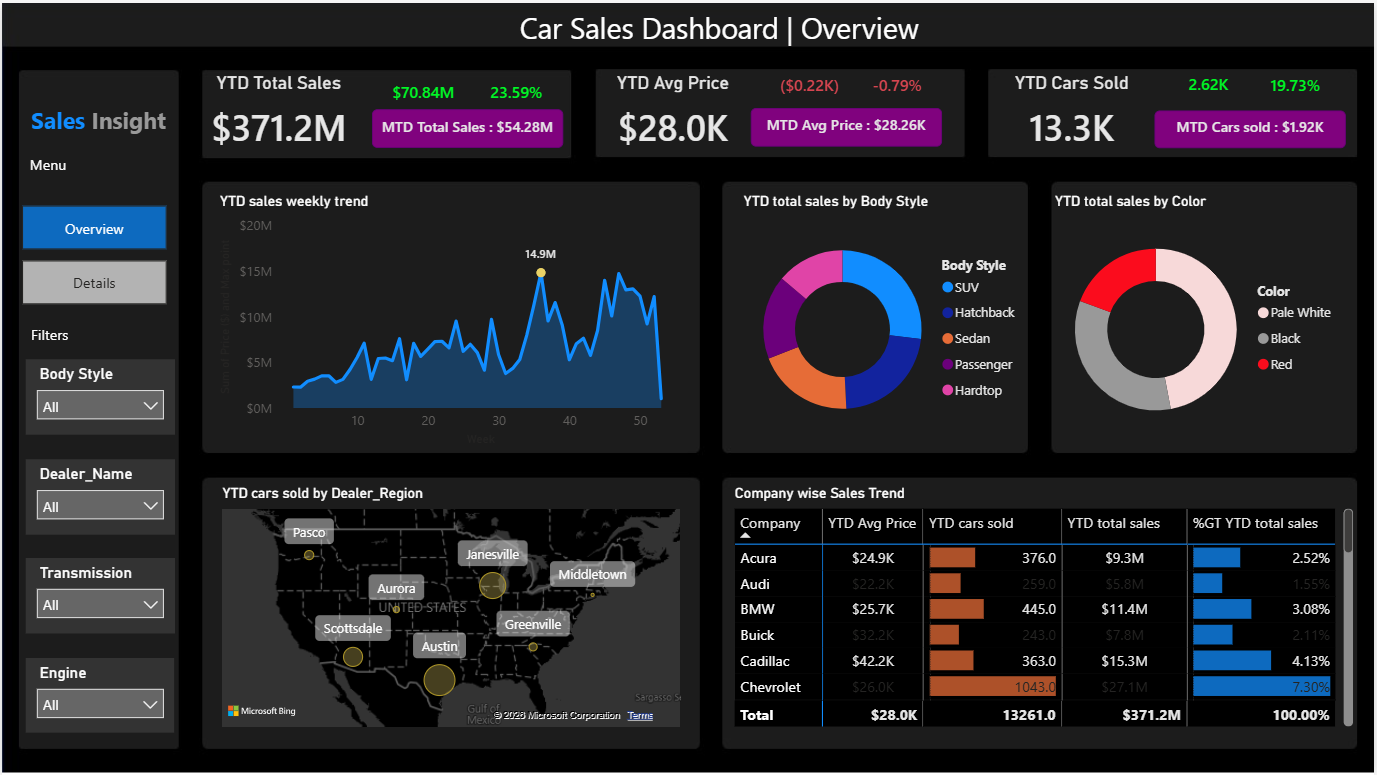

The page's visual inventory and layout, read from the dashboard file:
{"tool":"powerbi","page":{"name":"Overview","canvas":[1280,720],"ordinal":0},"visuals":[{"type":"card","title":"YTD Total Sales","fields":{"Values":["car_data.YTD total sales"]},"box":[172.9,64.3,171.4,82.9],"z":0},{"type":"card","fields":{"Values":["car_data.Sales Diff"]},"box":[351.8,70.9,81.8,28.2],"z":1000},{"type":"card","fields":{"Values":["car_data.YoY Sales Growth"]},"box":[437.3,70.9,85.5,28.2],"z":2000},{"type":"card","fields":{"Values":["car_data.MTD KPI"]},"box":[344.5,99.1,178.2,36.4],"z":3000},{"type":"card","title":"YTD Avg Price","fields":{"Values":["car_data.YTD Avg Price"]},"box":[540,64,172,84],"z":4000},{"type":"card","fields":{"Values":["car_data.Avg Price Diff"]},"box":[712,64,82,30],"z":5000},{"type":"card","fields":{"Values":["car_data.YOY Avg Price Growth"]},"box":[793.8,63.9,82,25.3],"z":6000},{"type":"card","fields":{"Values":["car_data.MTD Avg price KPI"]},"box":[698,98,178,36],"z":7000},{"type":"card","title":"YTD Cars Sold","fields":{"Values":["car_data.YTD cars sold"]},"box":[912,64,172,84],"z":8000},{"type":"card","fields":{"Values":["car_data.Cars sold diff"]},"box":[1084,56,82,44],"z":9000},{"type":"card","fields":{"Values":["car_data.YoY car sold growth"]},"box":[1165,56.7,83.3,43.3],"z":10000},{"type":"card","fields":{"Values":["car_data.MTD cars sold KPI"]},"box":[1075,100,178.3,35],"z":11000},{"type":"areaChart","title":"YTD sales weekly trend","fields":{"Category":["Calander Table.Week"],"Y":["Sum(car_data.Price ($))","car_data.Max point"]},"box":[198,176.8,438.5,240.4],"z":12000},{"type":"donutChart","fields":{"Category":["car_data.Body Style"],"Y":["car_data.YTD total sales"]},"box":[686.7,176.7,271.7,238.3],"z":13000},{"type":"donutChart","fields":{"Category":["car_data.Color"],"Y":["car_data.YTD total sales"]},"box":[976.7,176.7,276.7,238.3],"z":14000},{"type":"map","fields":{"Category":["car_data.Dealer_Region"],"Size":["car_data.YTD cars sold"]},"box":[200,450,436.7,230],"z":15000},{"type":"pivotTable","title":"Company wise Sales Trend","fields":{"Rows":["car_data.Company"],"Values":["car_data.YTD Avg Price","car_data.YTD cars sold","car_data.YTD total sales1","car_data.YTD total sales"]},"box":[678.3,450,586.7,230],"z":16000},{"type":"textbox","box":[477.8,0,417.4,48.3],"z":17000},{"type":"slicer","fields":{"Values":["car_data.Body Style"]},"box":[22.7,331.8,139.1,70],"z":18000},{"type":"slicer","fields":{"Values":["car_data.Dealer_Name"]},"box":[21.8,425.5,139.1,70],"z":19000},{"type":"slicer","fields":{"Values":["car_data.Transmission"]},"box":[21.8,518.2,139.1,70],"z":20000},{"type":"slicer","fields":{"Values":["car_data.Engine"]},"box":[21.7,610.5,138.7,70],"z":21000},{"type":"textbox","box":[22.7,295.5,63.6,30],"z":22000},{"type":"textbox","box":[21.2,136.2,60,30],"z":23000},{"type":"textbox","box":[21.7,90,162.5,45.8],"z":24000},{"type":"pageNavigator","box":[18.8,188.8,135,92.5],"z":25000}]}

Visuals, with their boxes on the page's 1280x720 design canvas (x1, y1, x2, y2). These are canvas units, not pixel positions in the 1377x775 screenshot, which may show the page scaled, cropped or inside an application window:
"YTD Total Sales" card: [173, 64, 344, 147]
card - car_data.Sales Diff: [352, 71, 434, 99]
card - car_data.YoY Sales Growth: [437, 71, 523, 99]
card - car_data.MTD KPI: [344, 99, 523, 136]
"YTD Avg Price" card: [540, 64, 712, 148]
card - car_data.Avg Price Diff: [712, 64, 794, 94]
card - car_data.YOY Avg Price Growth: [794, 64, 876, 89]
card - car_data.MTD Avg price KPI: [698, 98, 876, 134]
"YTD Cars Sold" card: [912, 64, 1084, 148]
card - car_data.Cars sold diff: [1084, 56, 1166, 100]
card - car_data.YoY car sold growth: [1165, 57, 1248, 100]
card - car_data.MTD cars sold KPI: [1075, 100, 1253, 135]
"YTD sales weekly trend" areaChart: [198, 177, 636, 417]
donutChart - car_data.Body Style x car_data.YTD total sales: [687, 177, 958, 415]
donutChart - car_data.Color x car_data.YTD total sales: [977, 177, 1253, 415]
map - car_data.Dealer_Region x car_data.YTD cars sold: [200, 450, 637, 680]
"Company wise Sales Trend" pivotTable: [678, 450, 1265, 680]
textbox: [478, 0, 895, 48]
slicer - car_data.Body Style: [23, 332, 162, 402]
slicer - car_data.Dealer_Name: [22, 426, 161, 496]
slicer - car_data.Transmission: [22, 518, 161, 588]
slicer - car_data.Engine: [22, 610, 160, 680]
textbox: [23, 296, 86, 326]
textbox: [21, 136, 81, 166]
textbox: [22, 90, 184, 136]
pageNavigator: [19, 189, 154, 281]
